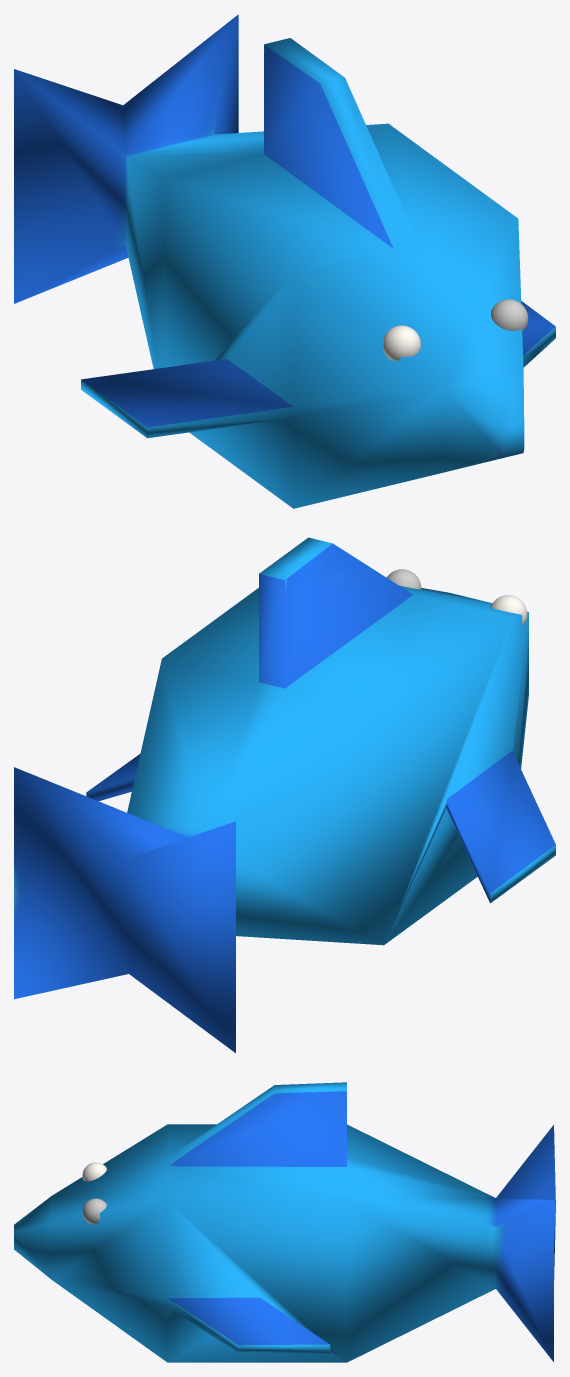
File: fish.fbx
The picture shows the model from 3 angles, top to bottom: view 1: azimuth 30°, elevation 25°; view 2: azimuth 150°, elevation 25°; view 3: azimuth 270°, elevation 25°; orthographic projection. The views are drawn at different scales.
Visible parts, largest first — view 1: Cube, Sphere, Sphere.001; view 2: Cube; view 3: Cube, Sphere.001, Sphere.
Part boxes in pixels (x1,y1,x2,y2): Cube: (14, 14, 555, 508); Sphere: (383, 325, 420, 361); Sphere.001: (491, 299, 528, 332); Cube: (14, 537, 555, 1053); Cube: (14, 1082, 555, 1362); Sphere.001: (82, 1198, 106, 1224); Sphere: (82, 1162, 106, 1181).
Bounding box in the file's own units: 363 × 293 × 604.
